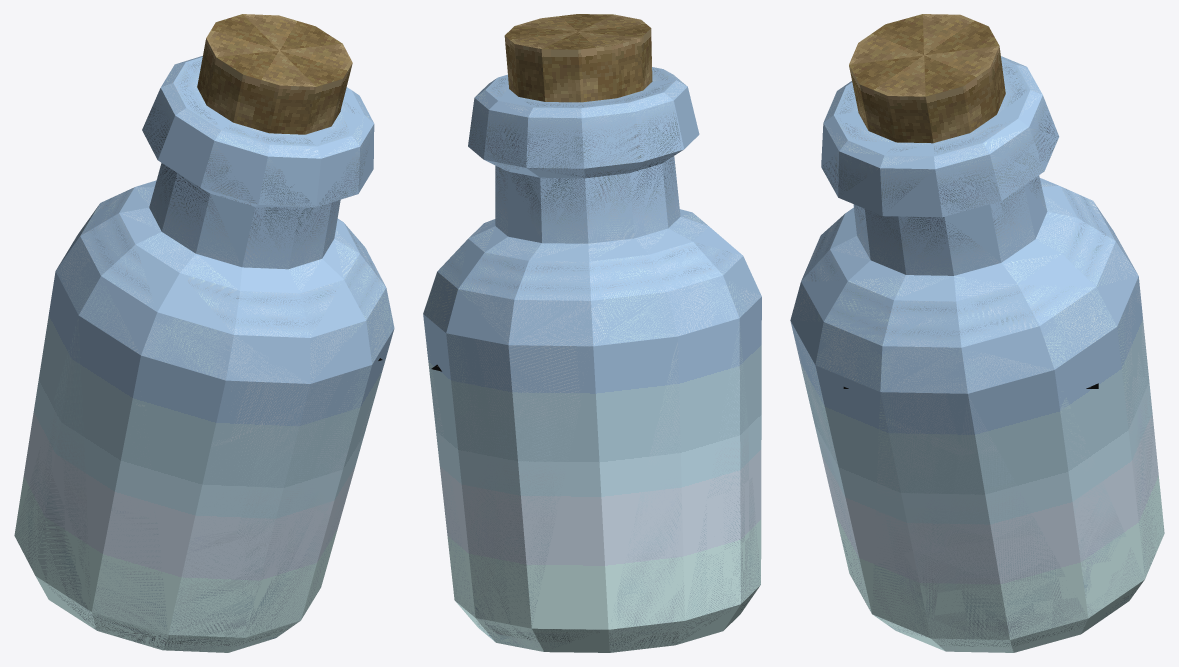
Rendered from BottleFairy.obj.
The picture shows the model from 3 angles, left to right: view 1: azimuth 30°, elevation 25°; view 2: azimuth 150°, elevation 25°; view 3: azimuth 270°, elevation 25°; orthographic projection. The views are drawn at different scales.
Visible parts, largest first — view 1: mesh0003; view 2: mesh0003; view 3: mesh0003.
Part boxes in pixels (<box>): mesh0003: <box>14,14,394,652</box>; mesh0003: <box>423,14,761,652</box>; mesh0003: <box>790,14,1164,652</box>.
Size of the model in its own units: 18.79 by 33.04 by 18.77.
Materials: 5 (5 with a texture image).
